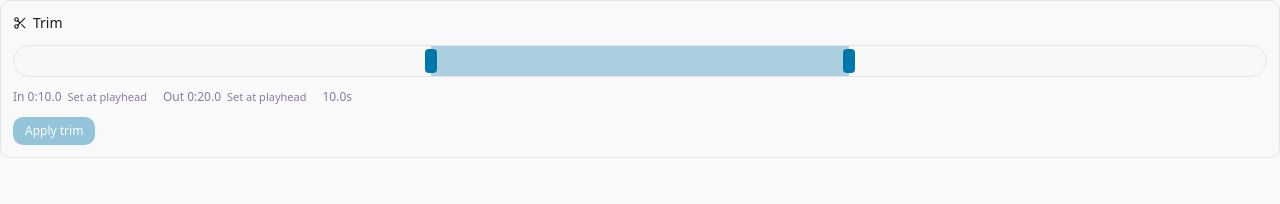
Test: ClipTrimControls › shows the server error inline when the trim job fails
The image size is (1280, 204).
Press ArrowRight in the slider named "trim in point", box [425,49,437,73]
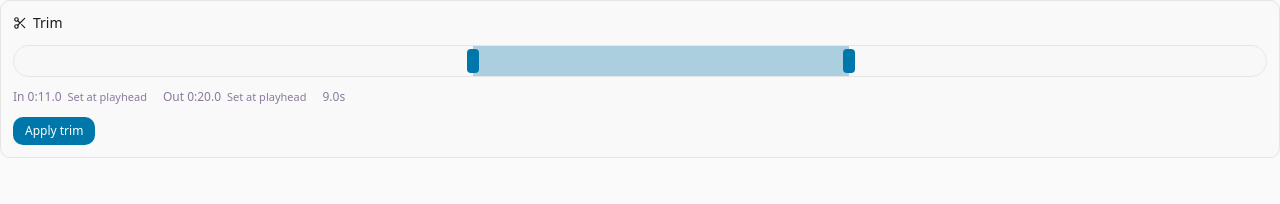
Click the button "Apply trim" at (54, 131), box [13,117,95,145]
Wait 1500 ms
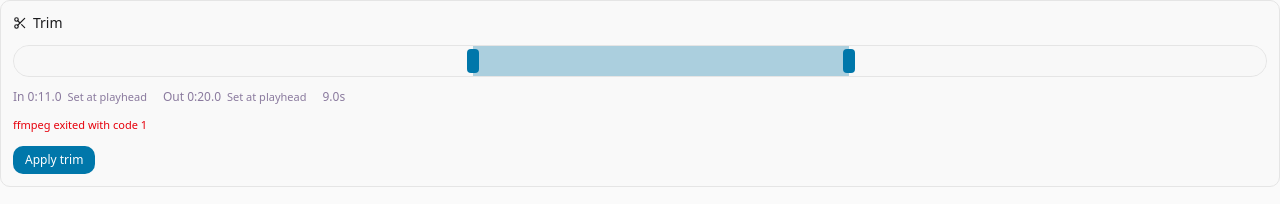
Expected: the text "ffmpeg exited with code 1" is shown, [13,117,147,132]
